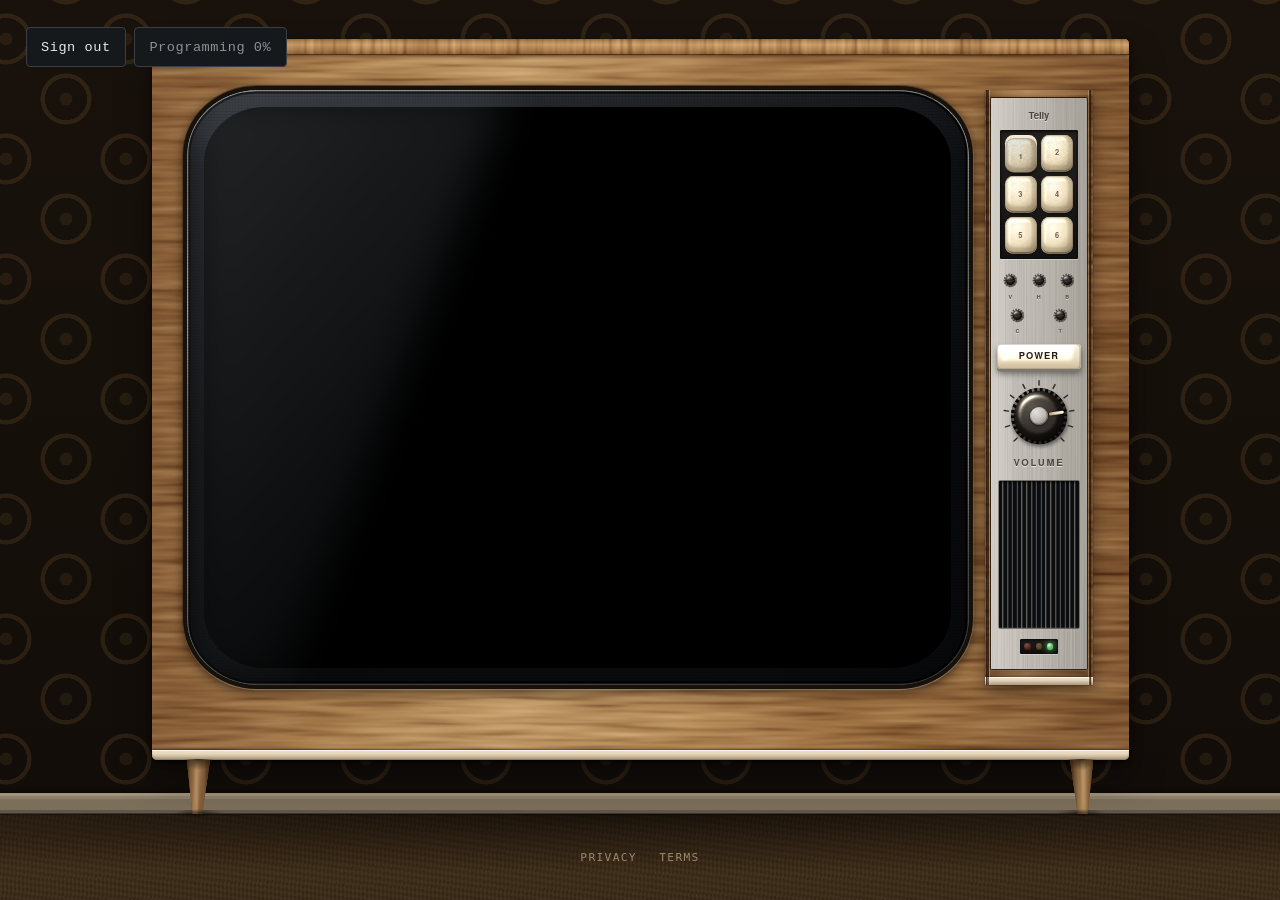
Test: Channel › the Google session › keeps a load that fails after signing out off the screen too
Click the button "Sign out": point(76, 47) [26,27,126,67]
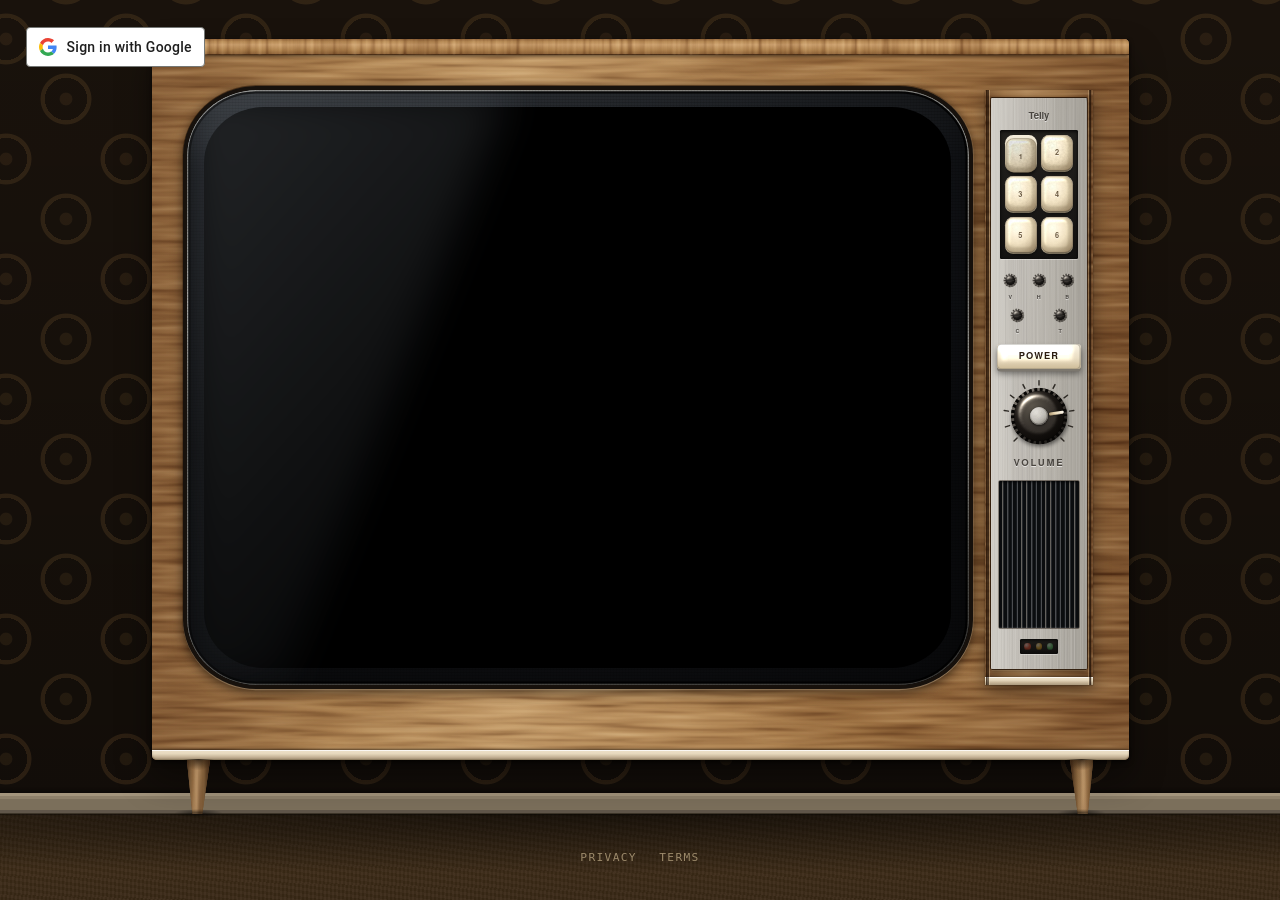
Expected: the button "Sign in with Google" is shown, [26,27,205,67]
